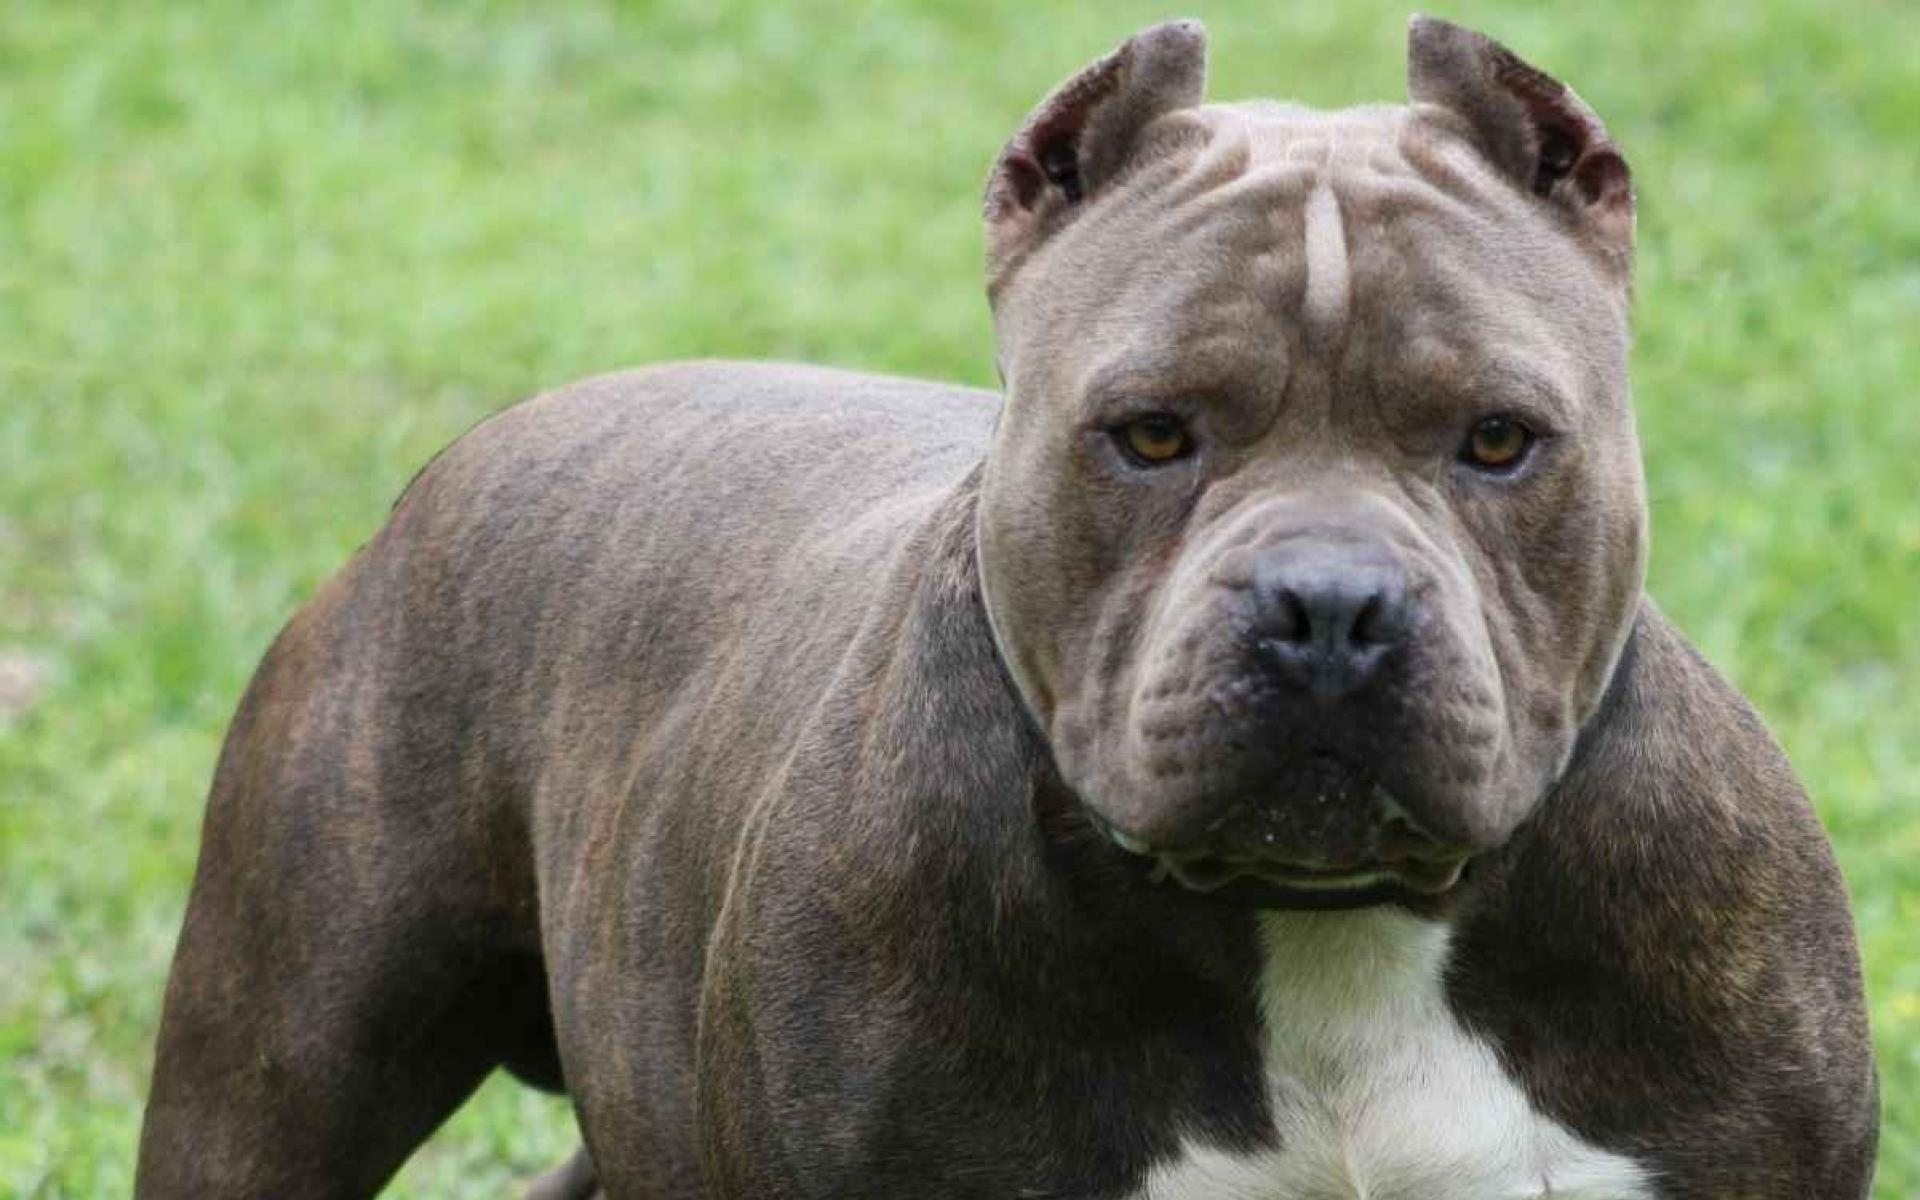am_pit_bull_terrier: (116, 8, 1885, 1199)
